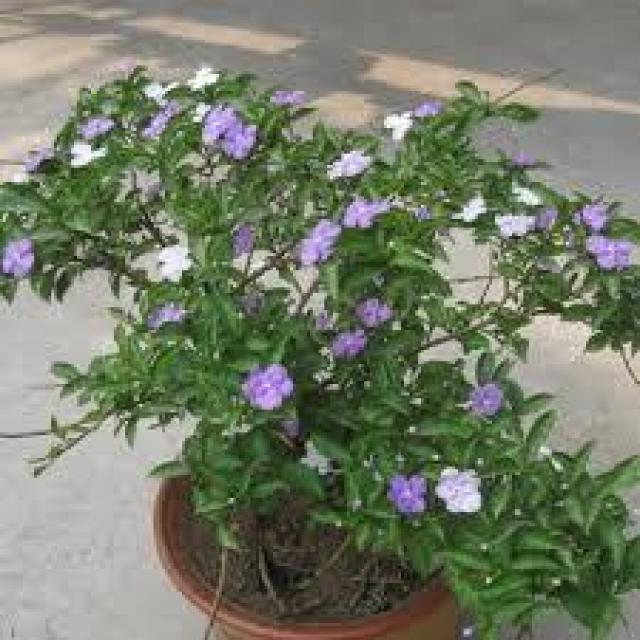organic waste: (238, 341, 300, 410), (582, 204, 636, 278), (201, 102, 263, 165), (455, 201, 538, 243), (435, 465, 492, 519), (461, 374, 515, 428), (384, 459, 427, 525), (328, 201, 402, 229), (327, 324, 370, 370), (292, 234, 348, 268), (1, 233, 42, 279), (322, 148, 376, 182), (60, 142, 116, 174), (356, 294, 401, 332), (142, 303, 196, 334), (148, 243, 205, 272), (374, 111, 417, 148), (75, 109, 124, 138), (189, 72, 226, 92), (6, 168, 40, 188)
